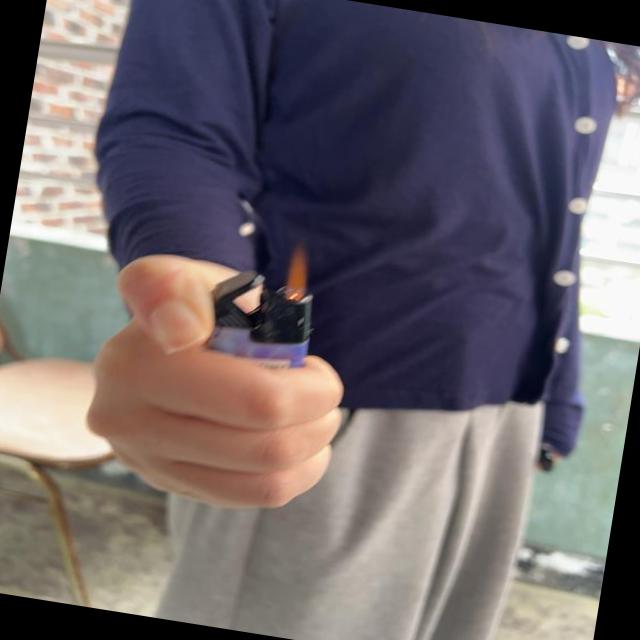Fire: (278, 242, 316, 304)
